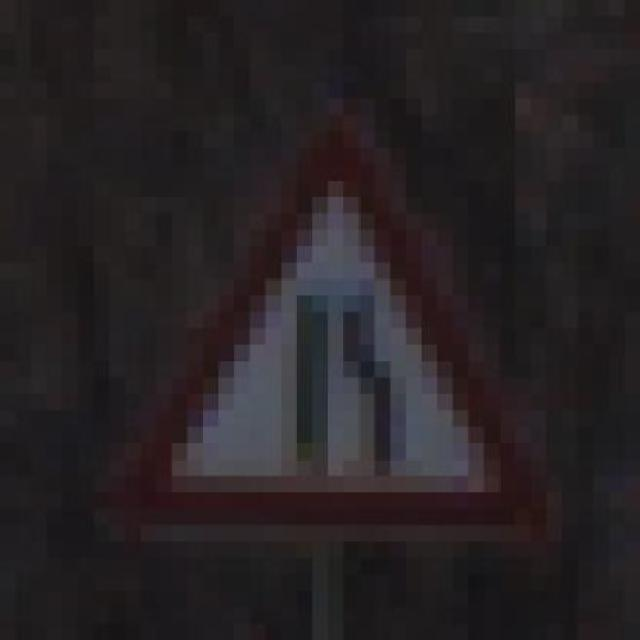-Road narrows on right: (124, 81, 562, 558)
